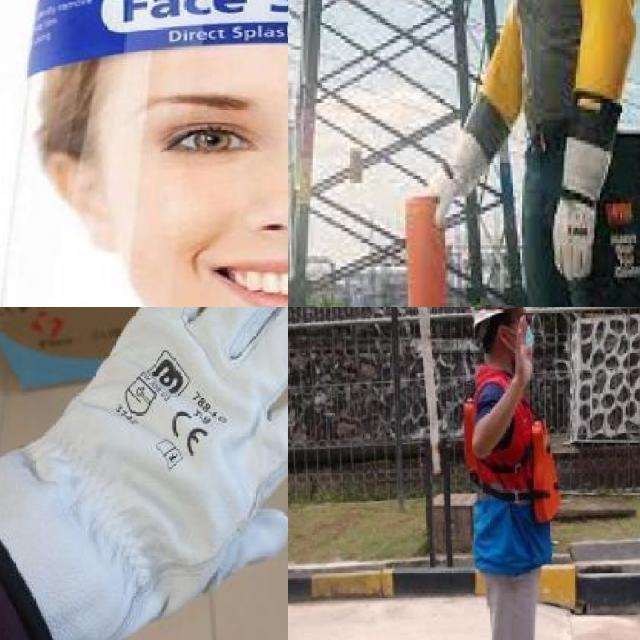apron: (0, 307, 288, 640), (552, 172, 600, 286), (426, 150, 482, 223)
